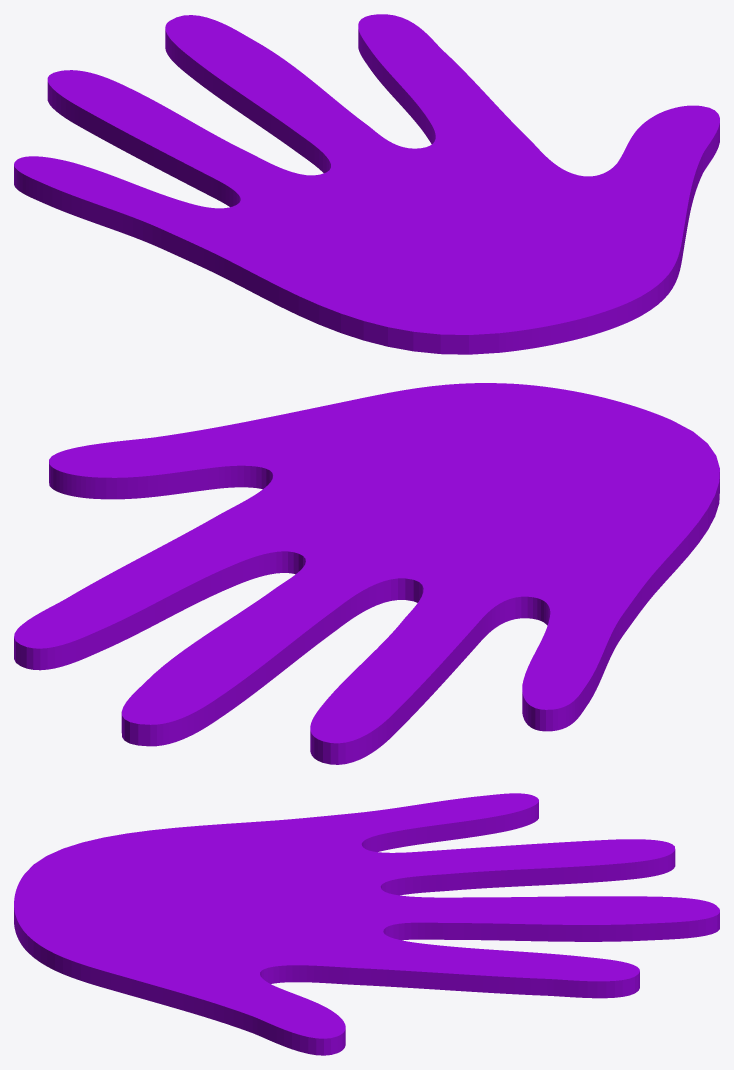
The model's file is LeftHand.fbx.
The picture shows the model from 3 angles, top to bottom: view 1: azimuth 30°, elevation 25°; view 2: azimuth 150°, elevation 25°; view 3: azimuth 270°, elevation 25°; orthographic projection. The views are drawn at different scales.
Visible parts, largest first — view 1: LeftHand; view 2: LeftHand; view 3: LeftHand.
Part boxes in pixels (x1=…): LeftHand: x1=14, y1=14, x2=719, y2=354; LeftHand: x1=14, y1=383, x2=719, y2=764; LeftHand: x1=14, y1=793, x2=719, y2=1055.
Size of the model in its own units: 7.07 by 0.2267 by 8.59.
